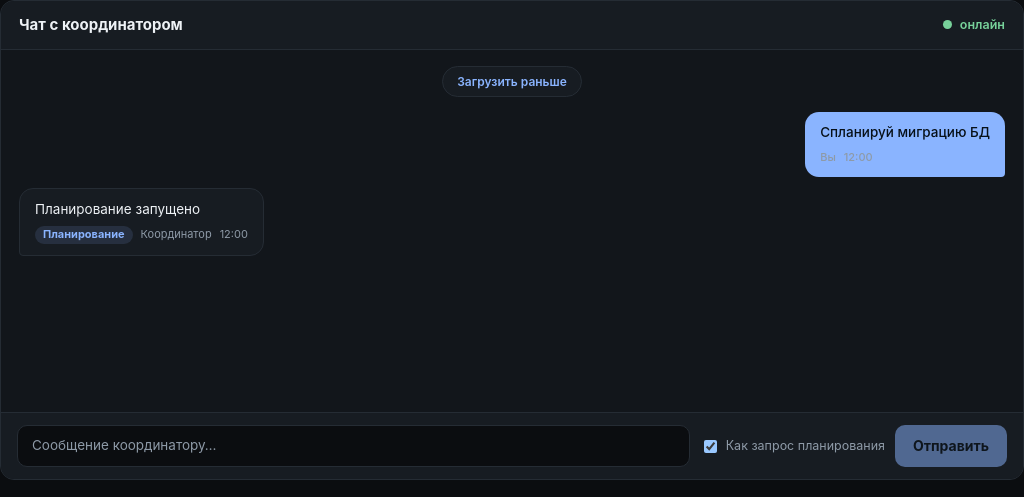
ChatPanel: SSE-подписка и история › «загрузить раньше» подгружает старшие сообщения по cursor
Check: the text "Спланируй миграцию БД" is shown, box [820,123,990,143]
Click the button "Загрузить раньше". click: {"x": 512, "y": 82}
box: [442,66,582,97]
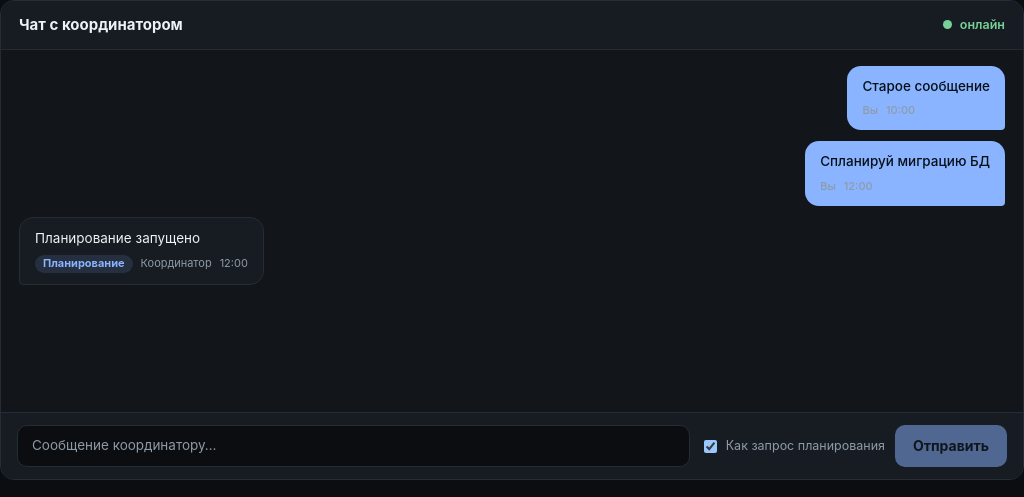
Check: the text "Старое сообщение" is shown, box [862,77,990,96]
Check: the button "Загрузить раньше" is gone
